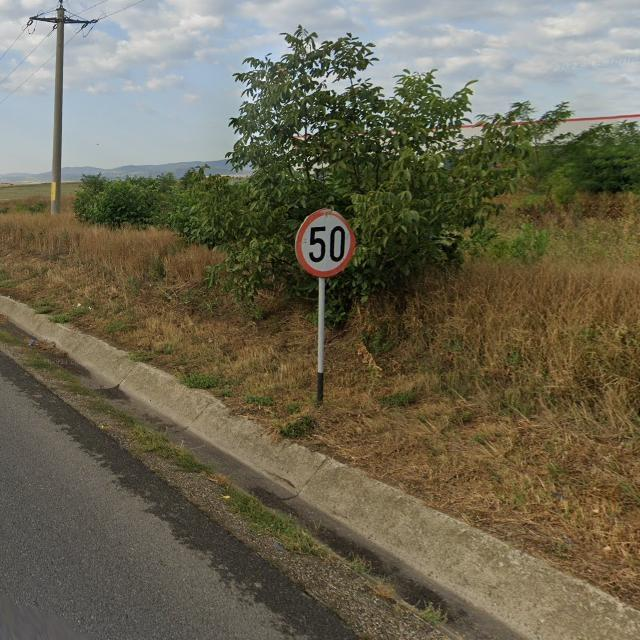forb_speed_over_50: (294, 209, 357, 272)
